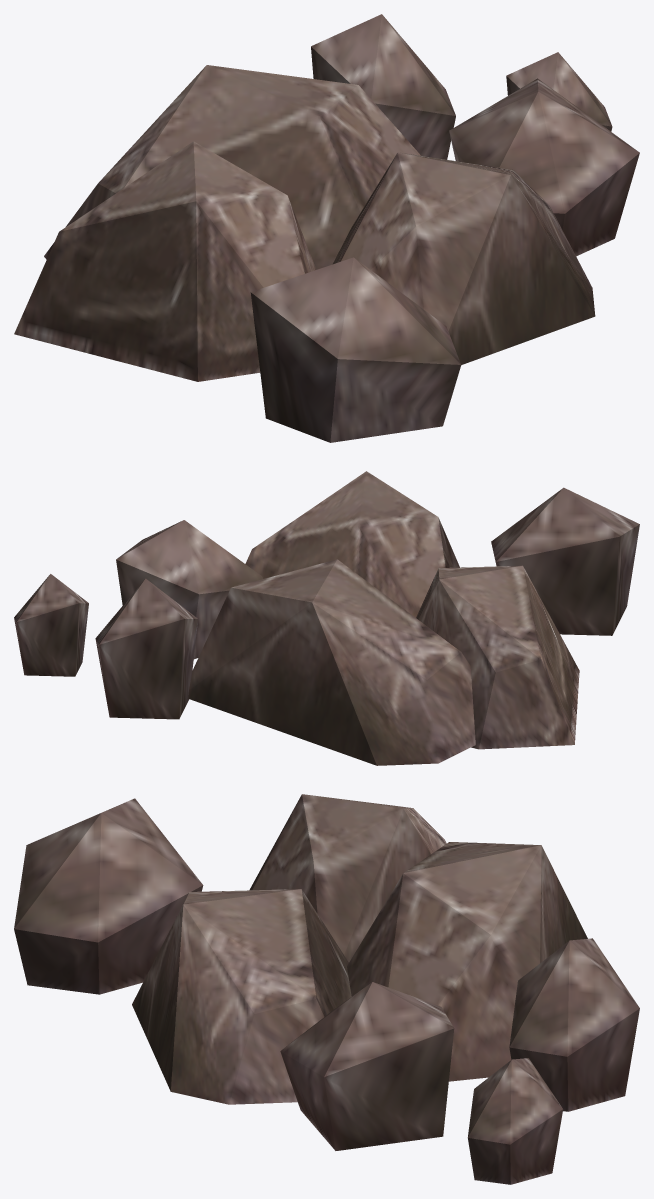
File: npc_cj_shitou.FBX
The picture shows the model from 3 angles, top to bottom: view 1: azimuth 30°, elevation 25°; view 2: azimuth 150°, elevation 25°; view 3: azimuth 270°, elevation 25°; orthographic projection. The views are drawn at different scales.
Visible parts, largest first — view 1: npc_cj_shitou; view 2: npc_cj_shitou; view 3: npc_cj_shitou.
Part boxes in pixels (x1,y1,x2,y2): npc_cj_shitou: [14, 14, 639, 442]; npc_cj_shitou: [14, 471, 639, 765]; npc_cj_shitou: [14, 794, 639, 1184].
Size of the model in its own units: 112 by 28.35 by 97.85.
